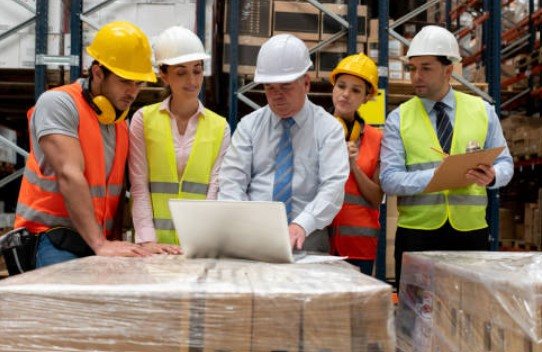worker: (15, 20, 150, 240), (399, 26, 488, 230), (147, 26, 225, 250)
